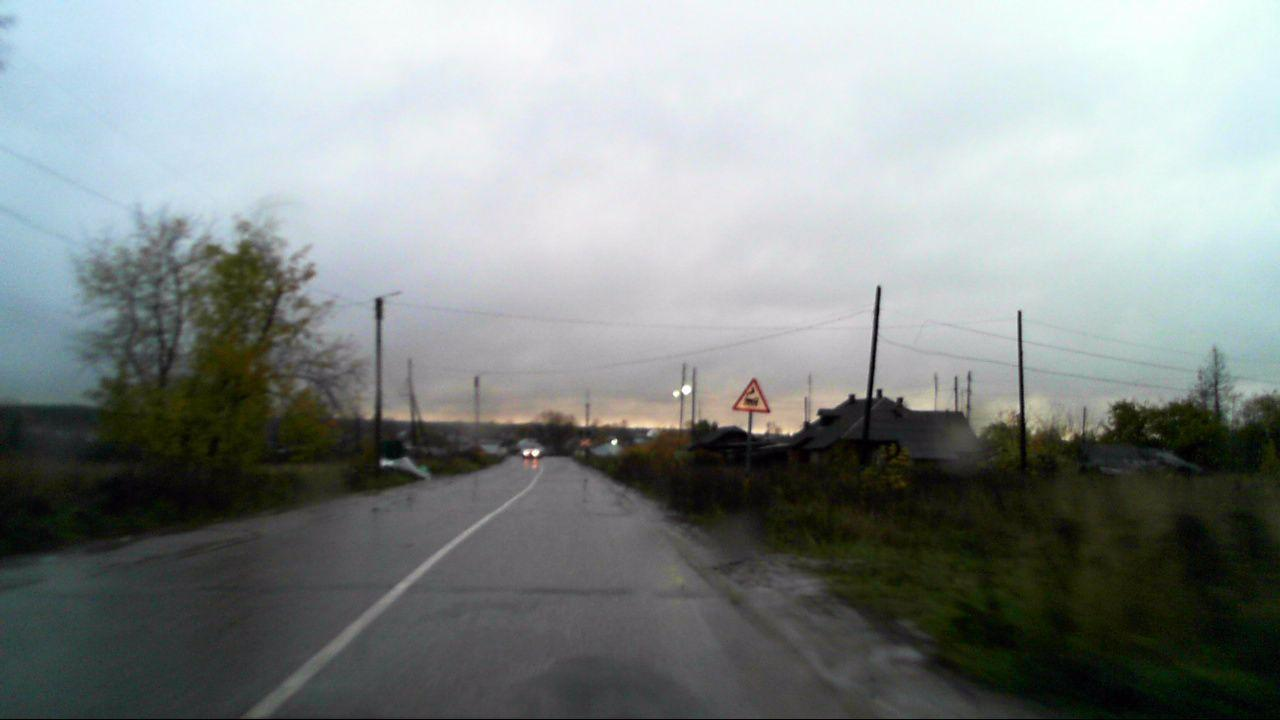1_2: (731, 377, 771, 414)
